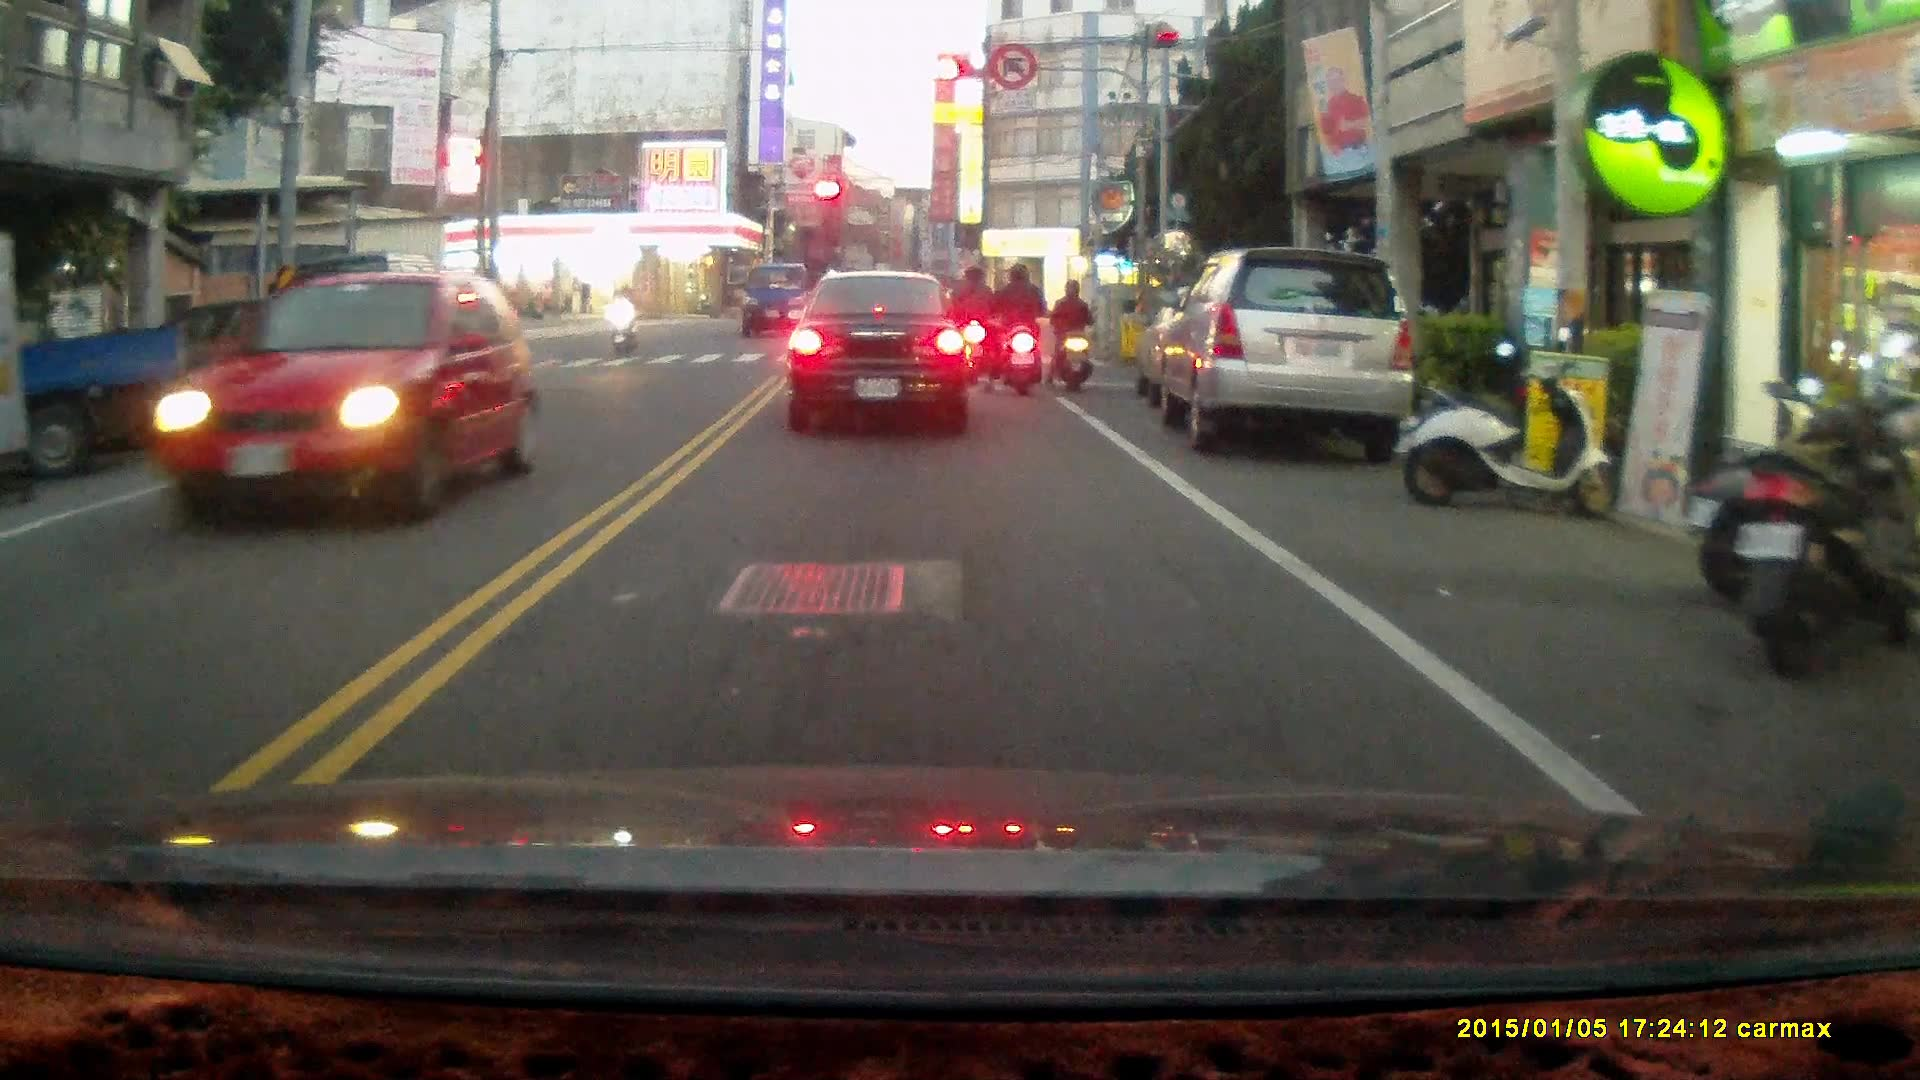rider: (984, 260, 1048, 399), (1044, 275, 1097, 393), (945, 264, 991, 383), (609, 279, 638, 359)
vehicle: (141, 269, 534, 529), (1147, 245, 1420, 456), (788, 268, 975, 434)
